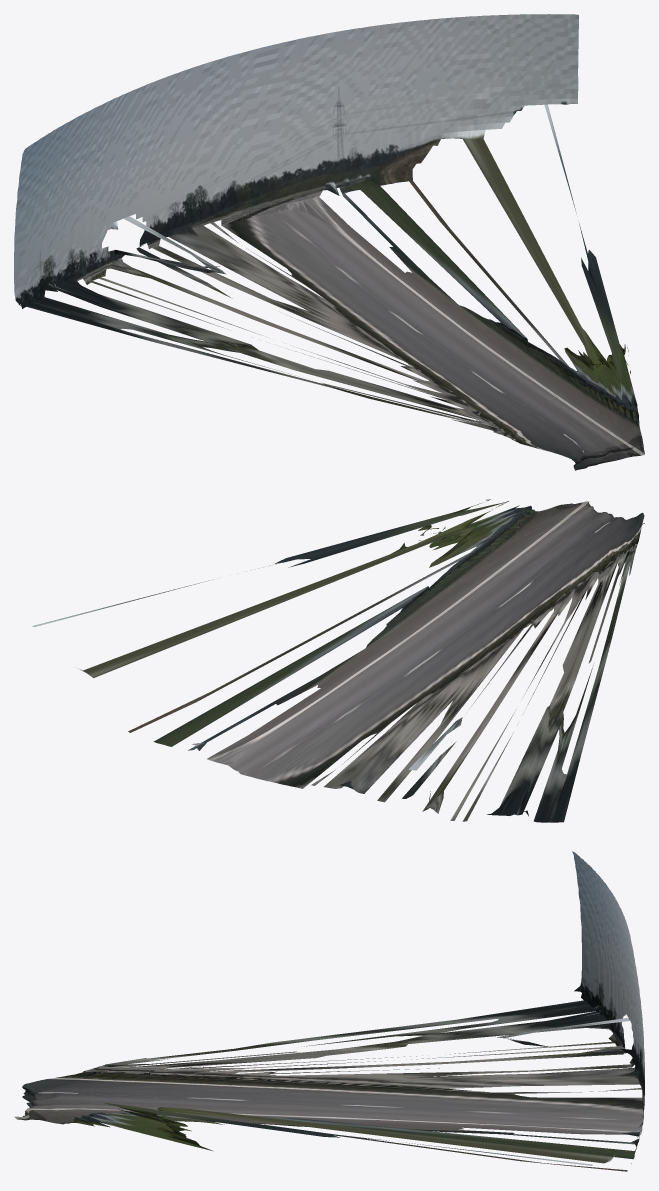
The picture shows the model from 3 angles, top to bottom: view 1: azimuth 30°, elevation 25°; view 2: azimuth 150°, elevation 25°; view 3: azimuth 270°, elevation 25°; orthographic projection. The views are drawn at different scales.
Visible parts, largest first — view 1: defaultobject; view 2: defaultobject; view 3: defaultobject.
Boxes of the visible parts, bbox=[...] form: defaultobject: bbox=[14, 14, 644, 470]; defaultobject: bbox=[32, 499, 644, 822]; defaultobject: bbox=[14, 851, 644, 1171].
Size of the model in its own units: 41.12 by 12.73 by 44.85.
Materials: 1 (1 with a texture image).
